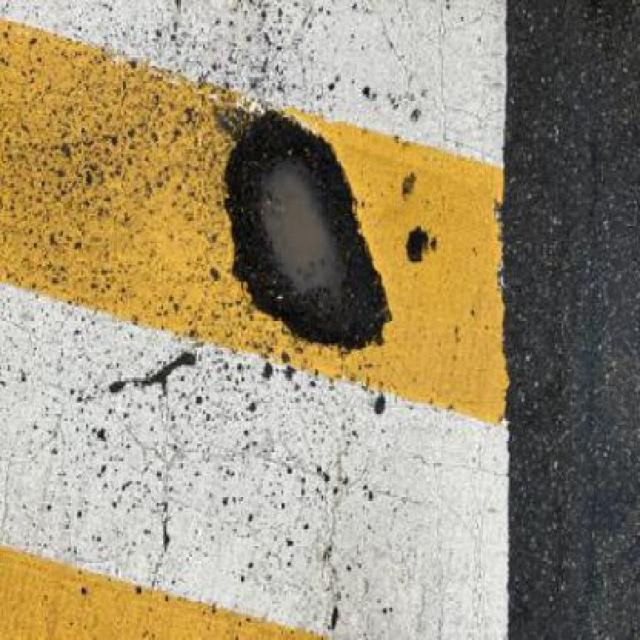pothole: (214, 109, 403, 357)
